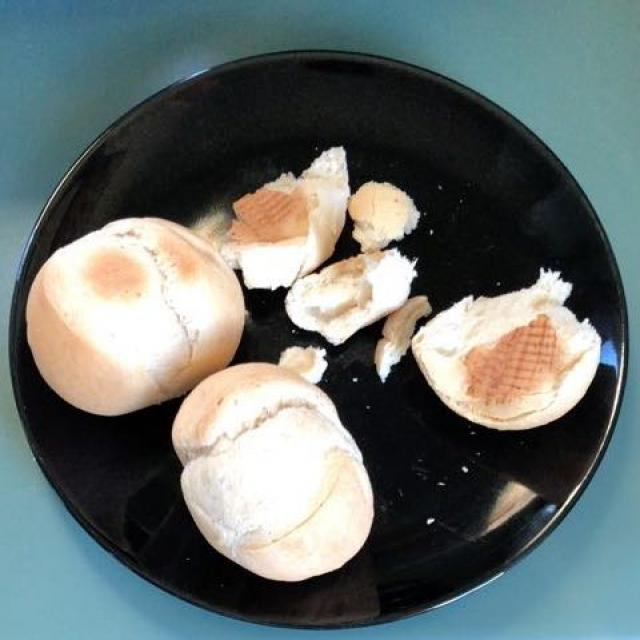bread: (18, 158, 610, 581)
